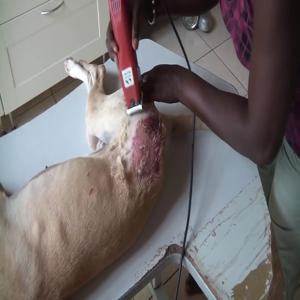skin_lesions: (127, 112, 165, 180)
